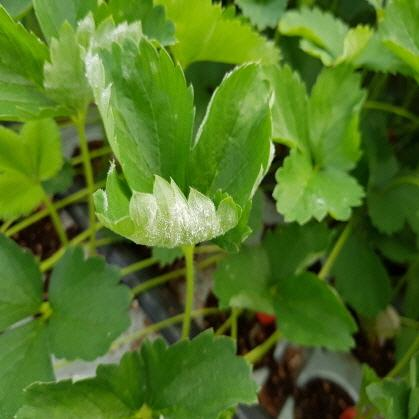Powdery Mildew Leaf: (77, 18, 197, 200), (188, 61, 275, 252), (90, 161, 244, 248), (270, 147, 365, 227)
